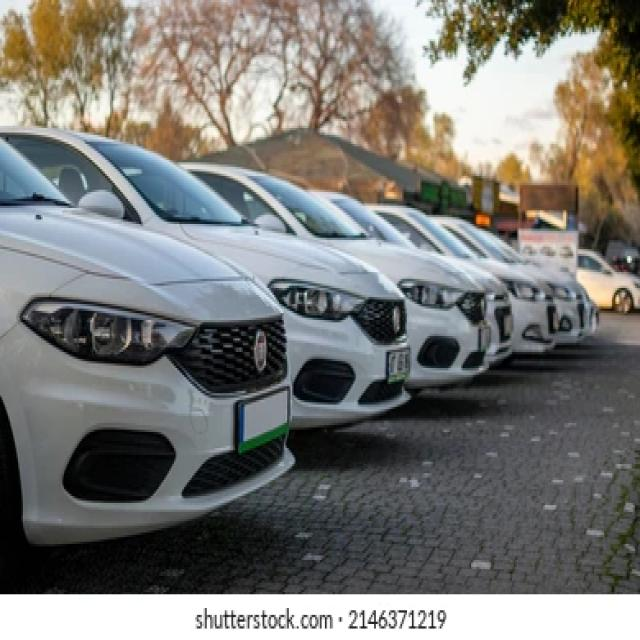fiat: (248, 332, 268, 372), (385, 307, 402, 341)
